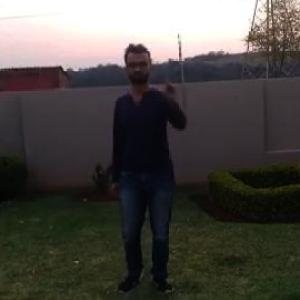land_hand: (151, 70, 183, 110)
